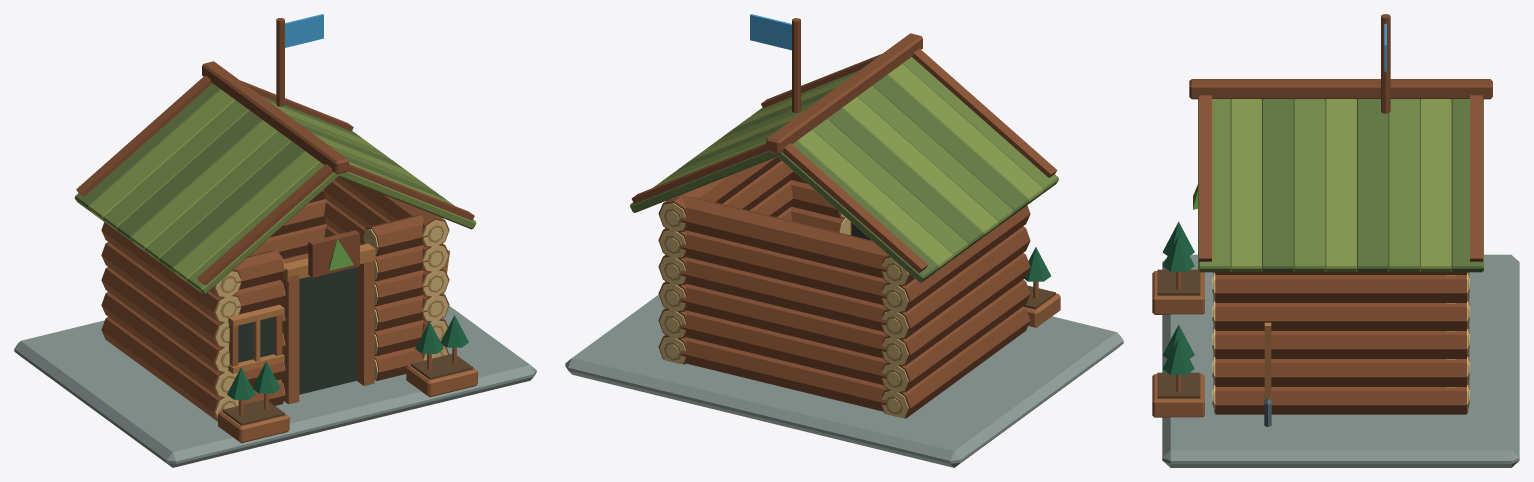
The model's file is forester.glb.
3 views of the same model, side by side, from view 1: azimuth 30°, elevation 25°; view 2: azimuth 150°, elevation 25°; view 3: azimuth 270°, elevation 25° (orthographic). The views are drawn at different scales.
Parts seen in each view (by area): view 1: forester game mesh; view 2: forester game mesh; view 3: forester game mesh.
Part boxes in pixels (x1,y1,x2,y2): forester game mesh: (14,14,536,467); forester game mesh: (565,14,1123,467); forester game mesh: (1152,14,1519,467).
Bounding box in the file's own units: 5.9 × 5 × 4.53.
